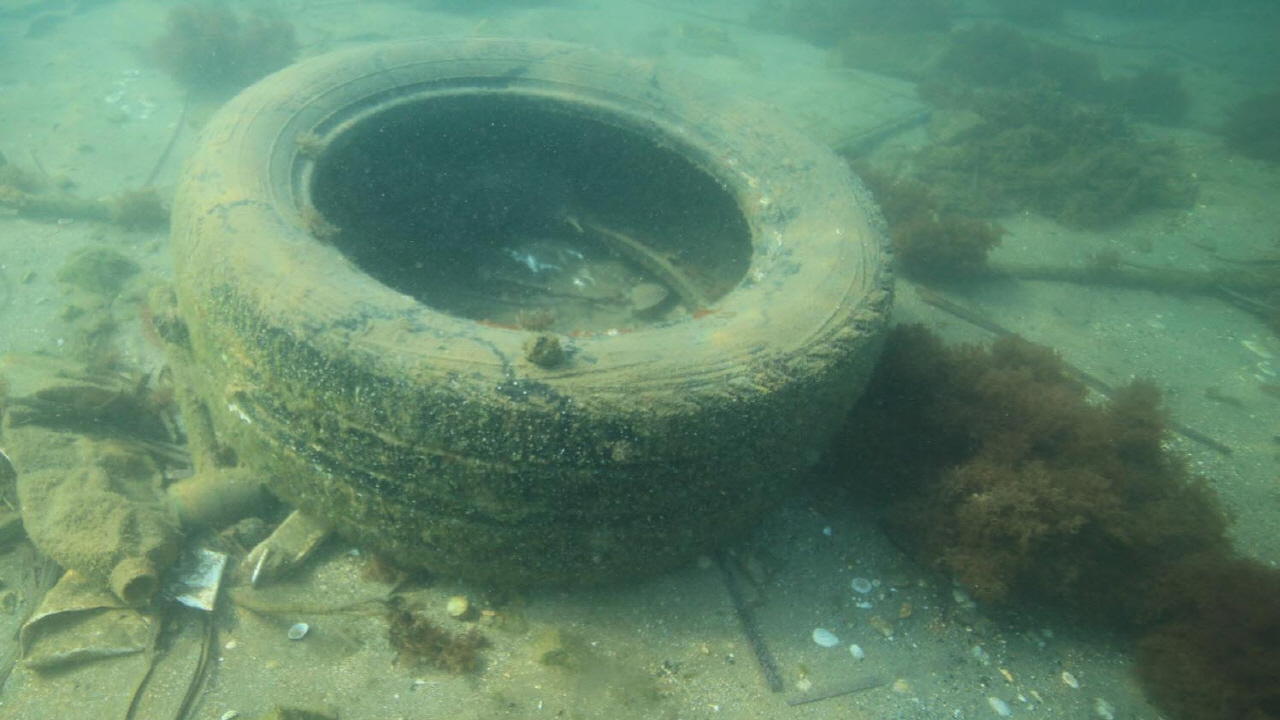rope: (967, 259, 1280, 292), (0, 183, 114, 217)
tire: (167, 31, 895, 592)
